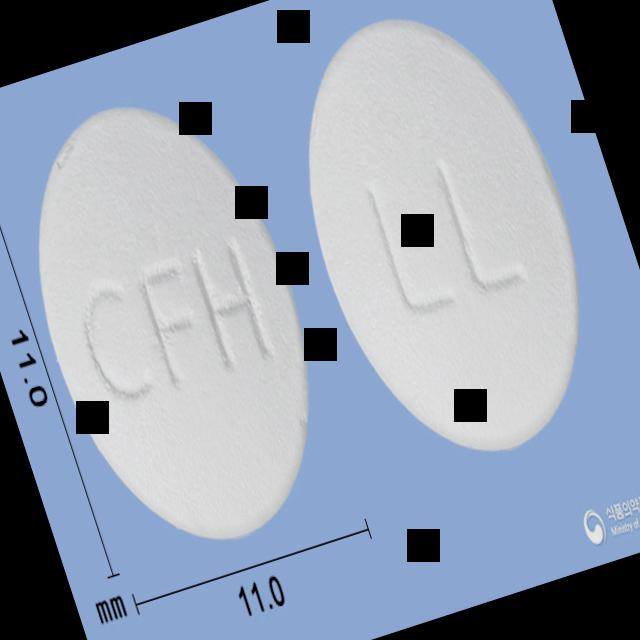Cyfloc: (255, 0, 631, 488), (0, 69, 361, 577)
